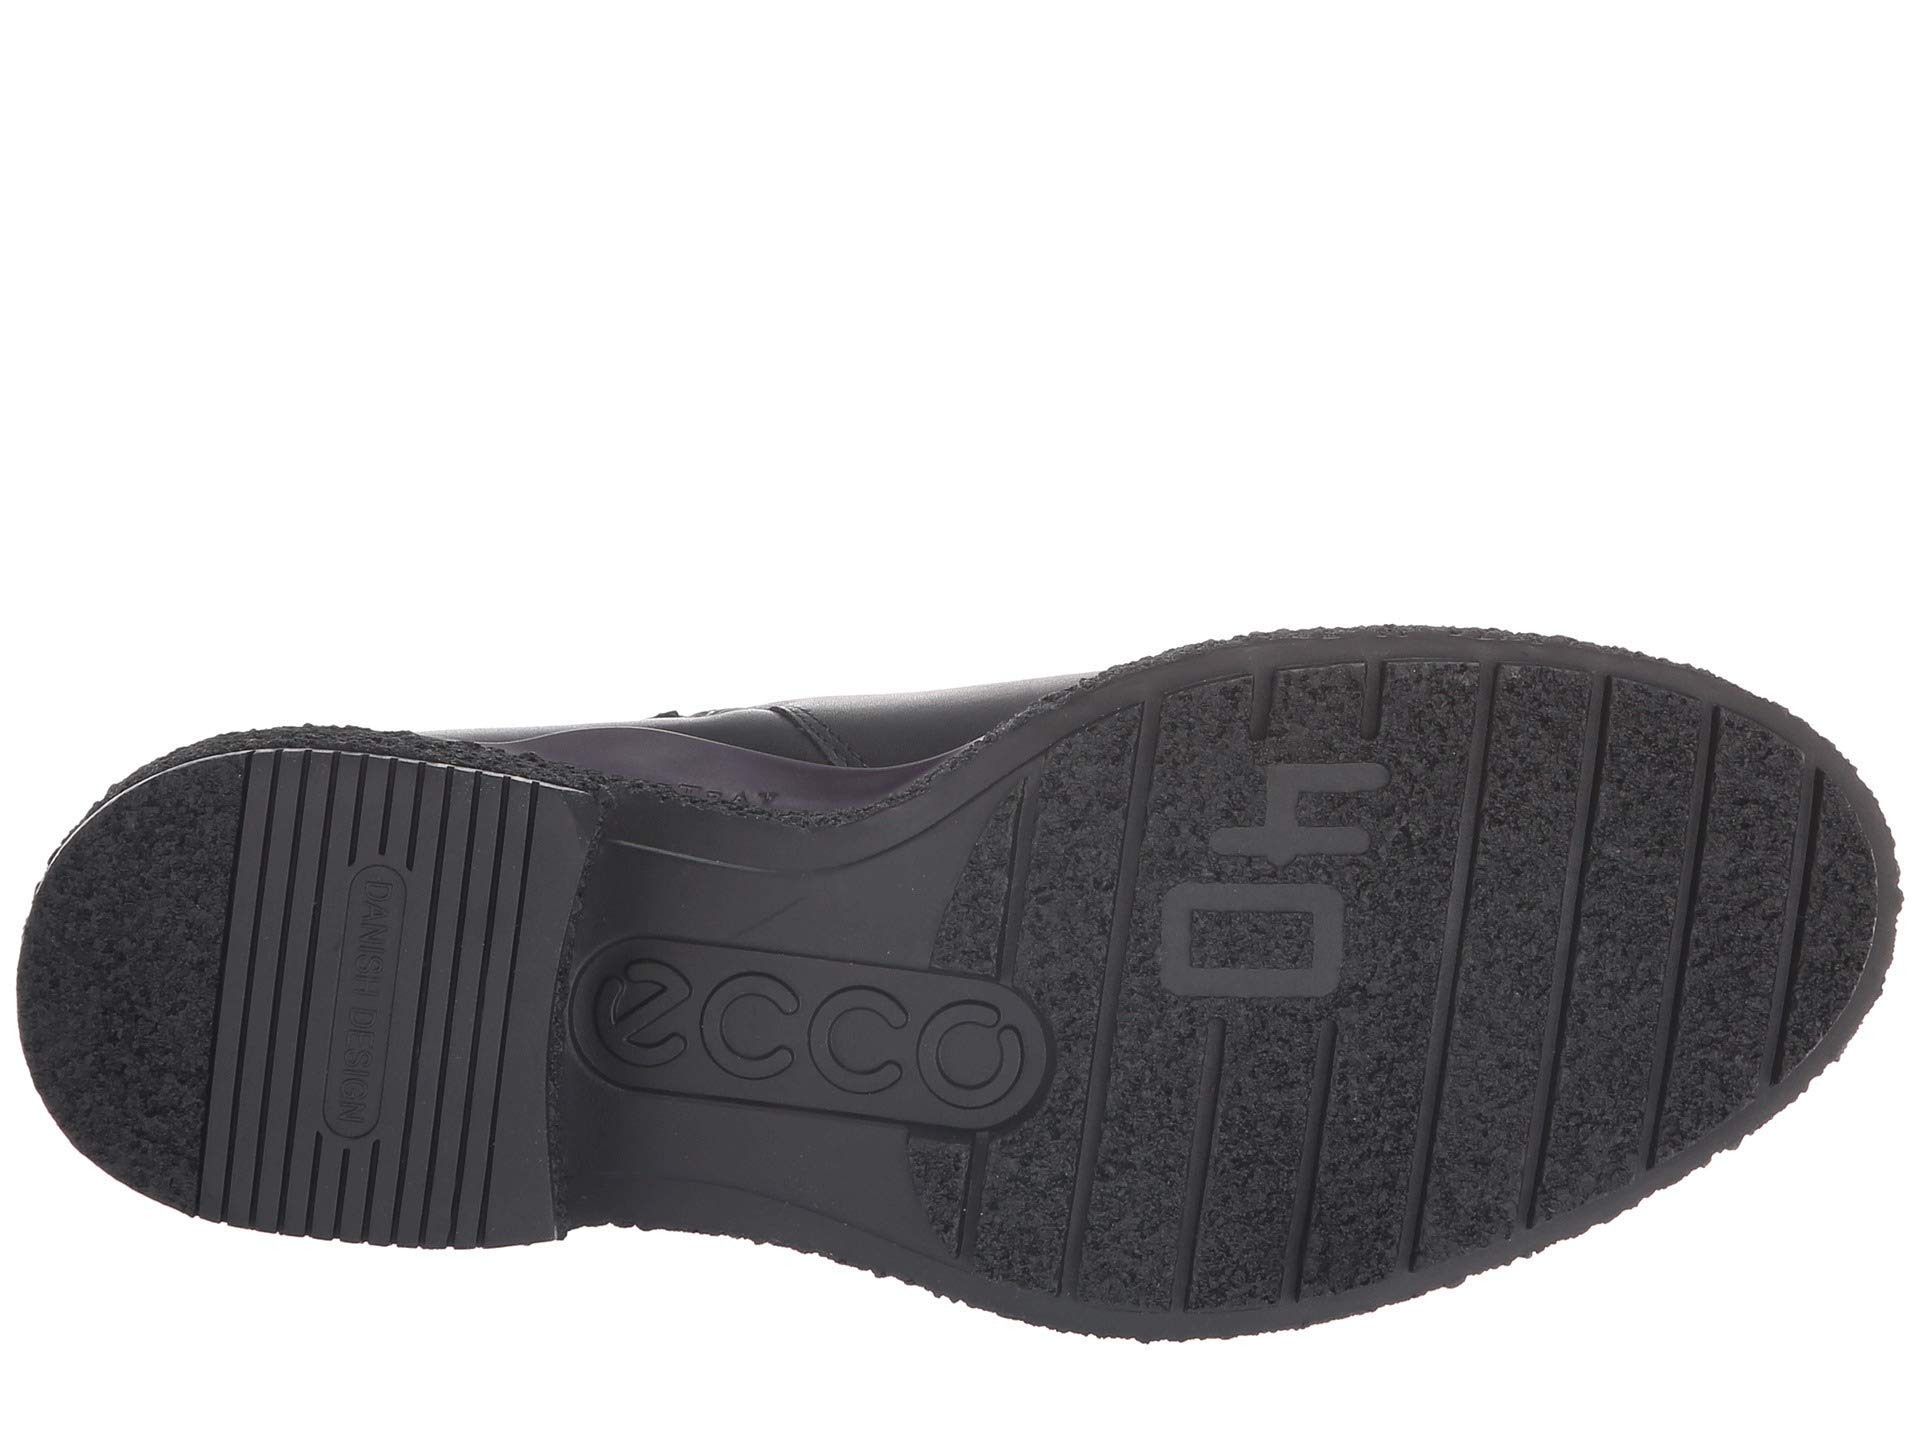circle: (567, 892, 1063, 1175)
line: (567, 892, 1063, 1175), (1073, 737, 1451, 1016), (314, 821, 408, 1187)
other: (1073, 737, 1451, 1016)
quad: (1073, 737, 1451, 1016)
text: (567, 892, 1063, 1175), (1073, 737, 1451, 1016), (314, 821, 408, 1187)
